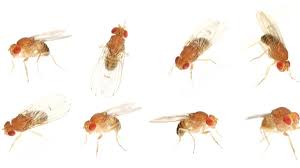insect: (243, 11, 300, 87), (157, 20, 223, 84), (0, 28, 72, 86), (82, 22, 135, 98), (1, 94, 70, 152), (148, 108, 221, 153), (80, 104, 140, 157), (244, 106, 299, 161)
